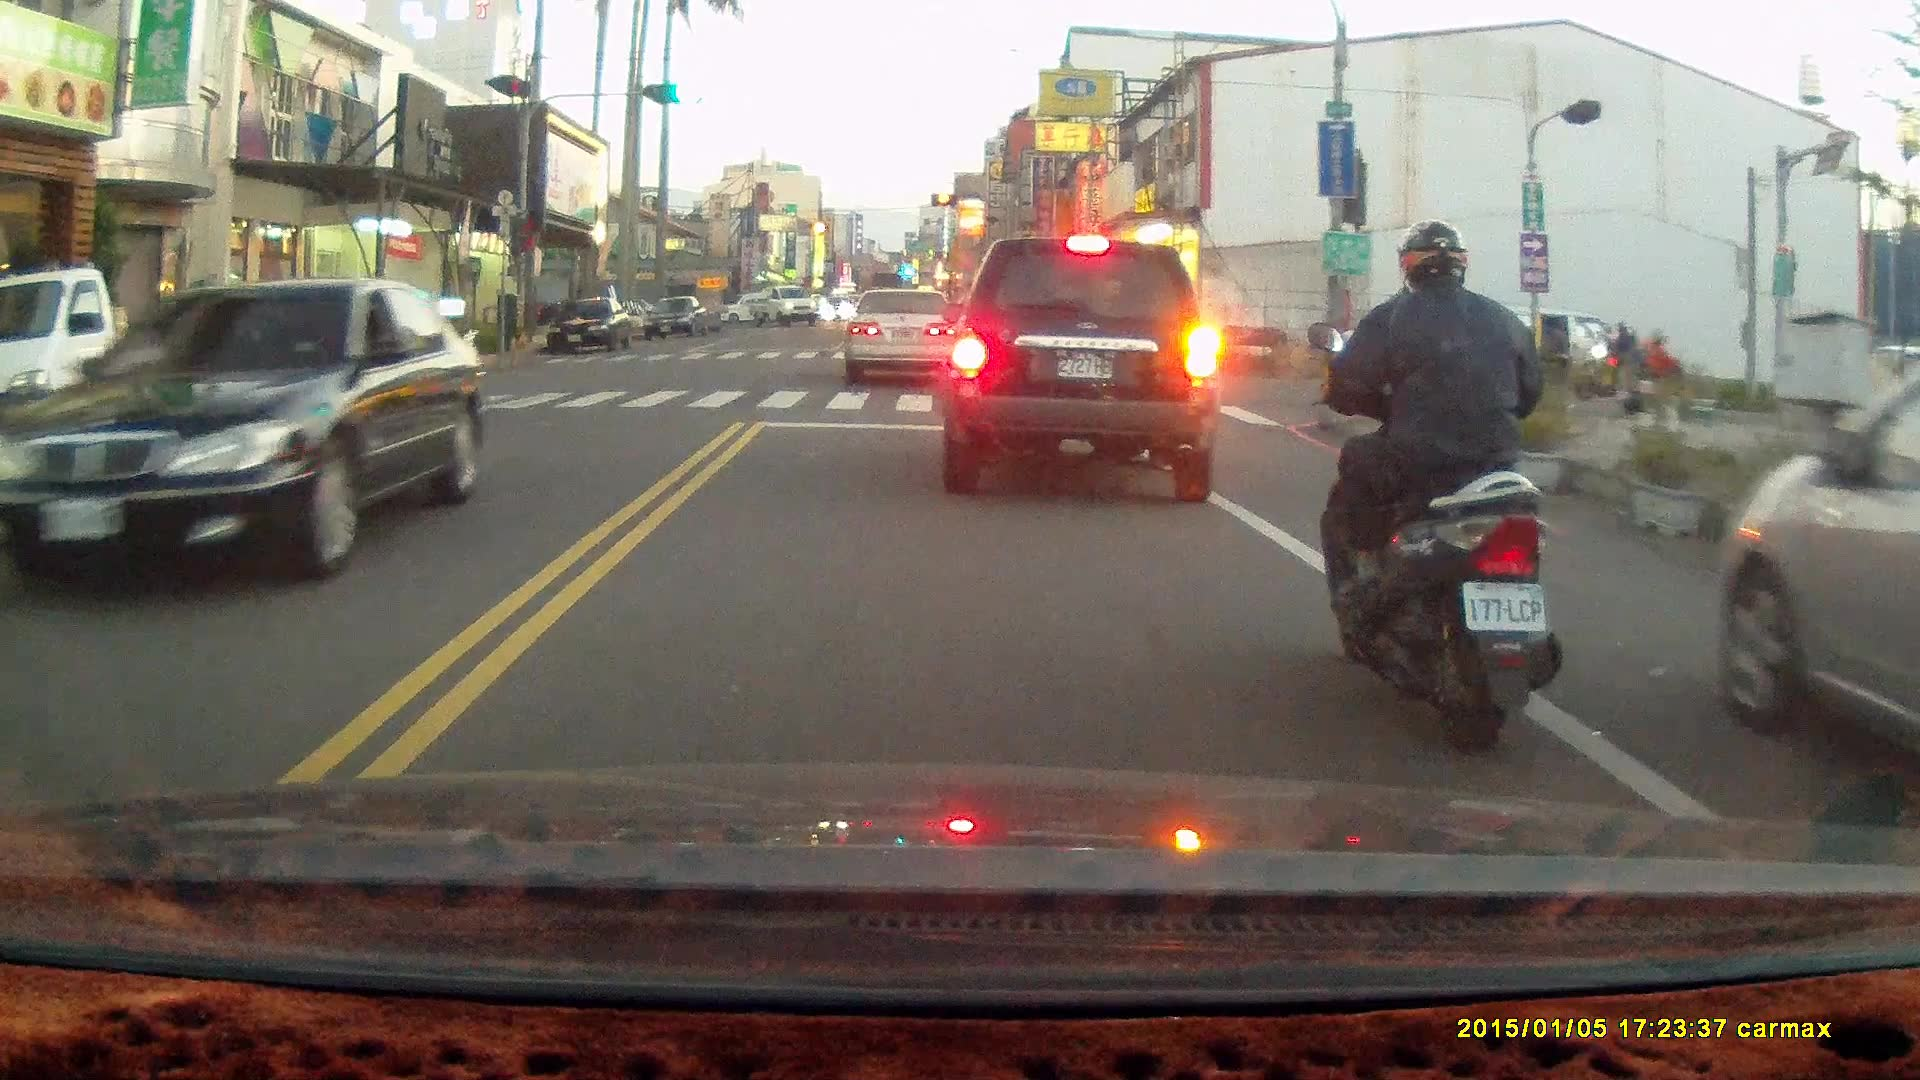pedestrian: (1544, 318, 1567, 384)
rider: (1308, 214, 1567, 752), (1619, 325, 1704, 422), (1582, 315, 1652, 402)
vehicle: (11, 277, 491, 590), (1714, 376, 1920, 774), (943, 235, 1222, 504), (1, 268, 207, 458), (849, 289, 960, 386), (548, 297, 640, 354), (642, 296, 710, 341)
